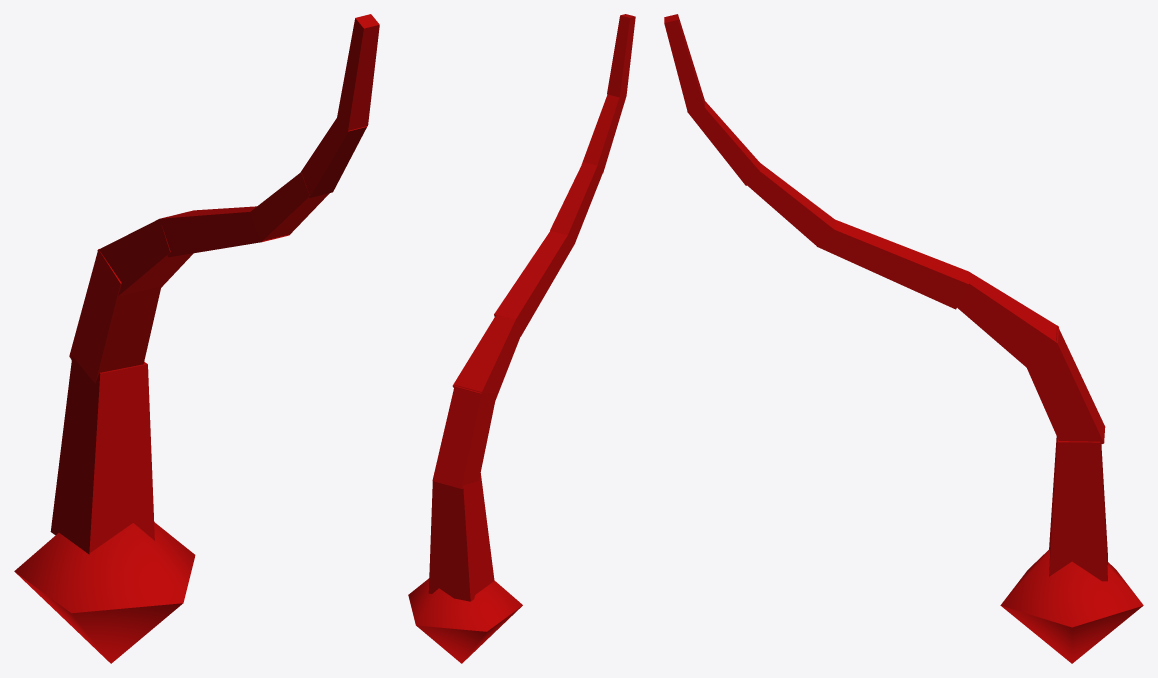
Rendered from SM_Env_Tree_Palm_04_Collision.gltf.
3 views of the same model, side by side, from view 1: azimuth 30°, elevation 25°; view 2: azimuth 150°, elevation 25°; view 3: azimuth 270°, elevation 25° (orthographic). The views are drawn at different scales.
Parts seen in each view (by area): view 1: SM_Env_Tree_Palm_04_Collision; view 2: SM_Env_Tree_Palm_04_Collision; view 3: SM_Env_Tree_Palm_04_Collision.
Part boxes in pixels (left/top/right/bottom): SM_Env_Tree_Palm_04_Collision: left=14, top=14, right=379, bottom=663; SM_Env_Tree_Palm_04_Collision: left=408, top=14, right=635, bottom=663; SM_Env_Tree_Palm_04_Collision: left=664, top=14, right=1143, bottom=663.
Size of the model in its own units: 1.06 by 5.53 by 3.72.
